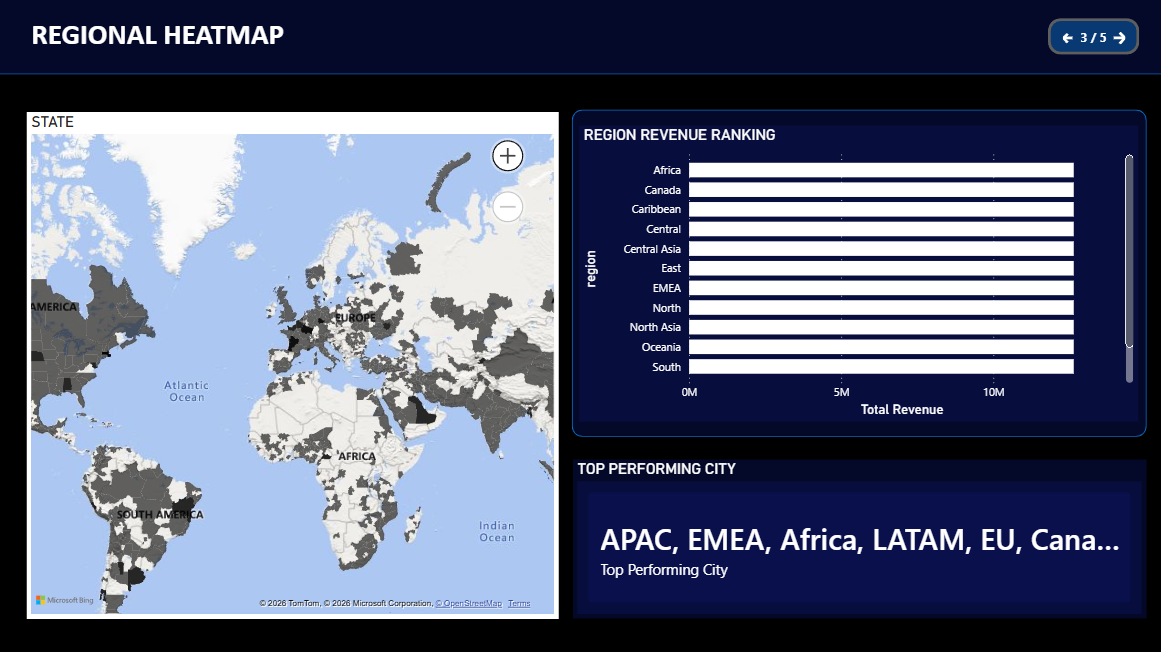

Layout of this report page (visuals, bound fields, positions):
{"tool":"powerbi","page":{"name":"Regional Heatmap","canvas":[1280,720],"ordinal":2},"visuals":[{"type":"shape","box":[0,0,1280.3,85.1],"z":0},{"type":"shape","box":[629.8,123.5,631.2,359.5],"z":0,"group":"g1"},{"type":"actionButton","box":[1152.7,23.3,100.2,39.8],"z":1000},{"type":"actionButton","box":[1165,35.7,28.8,19.2],"z":2000},{"type":"actionButton","box":[1219.9,34.3,24.7,22],"z":3000},{"type":"textbox","box":[31.6,16.5,583.2,56.3],"z":4000},{"type":"filledMap","title":"STATE","fields":{"Category":["dim_store.state"]},"box":[31.6,126.2,583.2,555.7],"z":5000},{"type":"group","id":"g1","title":"Group 1","box":[629.8,123.5,631.2,359.5],"z":6000},{"type":"clusteredBarChart","title":"REGION REVENUE RANKING","fields":{"Category":["dim_store.region"],"Y":["customer_rfm.Total Revenue"]},"box":[638,140.7,613.4,325.1],"z":7000,"group":"g1"},{"type":"cardVisual","title":"TOP PERFORMING CITY","fields":{"Data":["dim_store.Top Performing City"]},"box":[631.2,507.7,629.8,174.3],"z":7000}]}

Visuals, with their boxes in screenshot pixels (x1, y1, x2, y2), scaled from the page's 1280x720 canvas onto the 1161x652 screenshot:
shape: {"left": 0, "top": 0, "right": 1160, "bottom": 77}
shape: {"left": 571, "top": 112, "right": 1144, "bottom": 437}
actionButton: {"left": 1046, "top": 21, "right": 1136, "bottom": 57}
actionButton: {"left": 1057, "top": 32, "right": 1083, "bottom": 50}
actionButton: {"left": 1106, "top": 31, "right": 1129, "bottom": 51}
textbox: {"left": 29, "top": 15, "right": 558, "bottom": 66}
"STATE" filledMap: {"left": 29, "top": 114, "right": 558, "bottom": 617}
"Group 1" group: {"left": 571, "top": 112, "right": 1144, "bottom": 437}
"REGION REVENUE RANKING" clusteredBarChart: {"left": 579, "top": 127, "right": 1135, "bottom": 422}
"TOP PERFORMING CITY" cardVisual: {"left": 573, "top": 460, "right": 1144, "bottom": 618}
